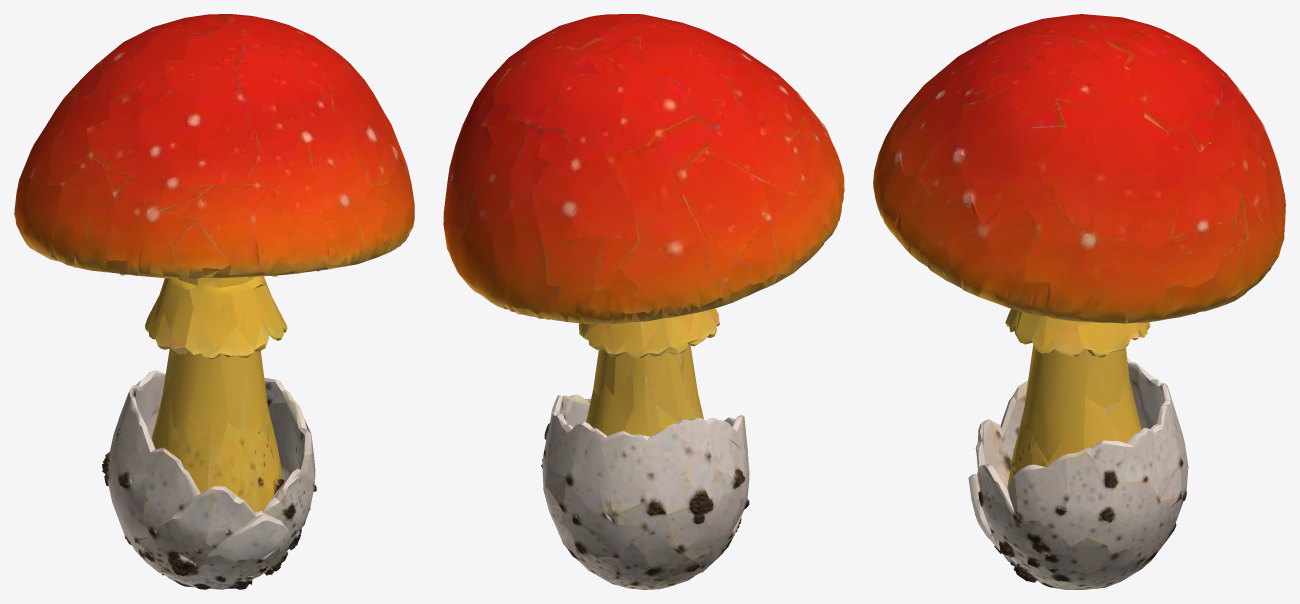
Rendered from sezar.glb.
The picture shows the model from 3 angles, left to right: view 1: azimuth 30°, elevation 25°; view 2: azimuth 150°, elevation 25°; view 3: azimuth 270°, elevation 25°; orthographic projection. The views are drawn at different scales.
Visible parts, largest first — view 1: output_unwrapped; view 2: output_unwrapped; view 3: output_unwrapped.
Boxes of the visible parts, box(x1,y1,x2,y2) form: output_unwrapped: box(14, 14, 414, 589); output_unwrapped: box(443, 14, 844, 589); output_unwrapped: box(873, 14, 1285, 589).
Size of the model in its own units: 1.27 by 1.9 by 1.28.
1 material, 1 textured.
